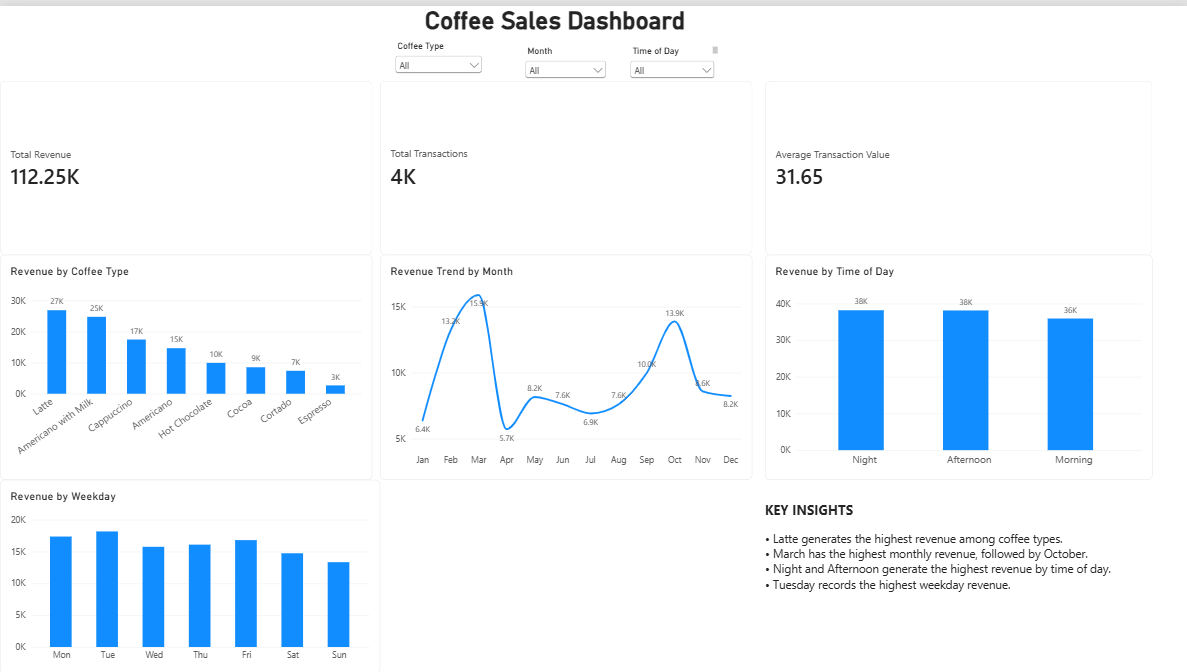

What the dashboard file says about the page in this screenshot:
{"tool":"powerbi","page":{"name":"Page 1","canvas":[1920,1080],"ordinal":0},"visuals":[{"type":"cardVisual","fields":{"Data":["CoffeeSales.Total Revenue"]},"box":[0,121,601.1,280.4],"z":0},{"type":"cardVisual","fields":{"Data":["CoffeeSales.Total Transactions"]},"box":[613.2,121,601.1,280.4],"z":1},{"type":"cardVisual","fields":{"Data":["CoffeeSales.Average Transaction Value"]},"box":[1234.5,121,625.3,280.4],"z":2},{"type":"clusteredColumnChart","title":"Revenue by Coffee Type","fields":{"Category":["CoffeeSales.coffee_name"],"Y":["Sum(CoffeeSales.money)"]},"box":[0,401.4,601.1,363.1],"z":3},{"type":"lineChart","title":"Revenue Trend by Month","fields":{"Category":["CoffeeSales.Month_name"],"Y":["CoffeeSales.Total Revenue"]},"box":[613.2,401.4,601.1,363.1],"z":4},{"type":"clusteredColumnChart","title":"Revenue by Time of Day","fields":{"Category":["CoffeeSales.Time_of_Day"],"Y":["Sum(CoffeeSales.money)"]},"box":[1234.5,401.4,625.3,363.1],"z":5},{"type":"clusteredColumnChart","title":"Revenue by Weekday","fields":{"Category":["CoffeeSales.Weekday"],"Y":["Sum(CoffeeSales.money)"]},"box":[0,764.5,613.2,314.7],"z":6},{"type":"textbox","box":[633,734,601,315],"z":7},{"type":"textbox","title":"Coffee Sales Dashboard","box":[633.4,0,524.5,76.7],"z":8},{"type":"slicer","fields":{"Values":["CoffeeSales.Month_name"]},"box":[843.2,64.6,139.2,56.5],"z":9},{"type":"slicer","fields":{"Values":["CoffeeSales.coffee_name"]},"box":[633.4,56.5,149.3,56.5],"z":10},{"type":"slicer","fields":{"Values":["CoffeeSales.Time_of_Day"]},"box":[1012.7,64.6,145.2,52.4],"z":11},{"type":"textbox","box":[1234.5,798.8,625.3,232],"z":12}]}

Visuals, with their boxes in screenshot pixels (x1, y1, x2, y2), scaled from the page's 1920x1080 canvas onto the 1187x672 screenshot:
cardVisual - CoffeeSales.Total Revenue: locate(0, 75, 372, 250)
cardVisual - CoffeeSales.Total Transactions: locate(379, 75, 751, 250)
cardVisual - CoffeeSales.Average Transaction Value: locate(763, 75, 1150, 250)
"Revenue by Coffee Type" clusteredColumnChart: locate(0, 250, 372, 476)
"Revenue Trend by Month" lineChart: locate(379, 250, 751, 476)
"Revenue by Time of Day" clusteredColumnChart: locate(763, 250, 1150, 476)
"Revenue by Weekday" clusteredColumnChart: locate(0, 476, 379, 671)
textbox: locate(391, 457, 763, 653)
"Coffee Sales Dashboard" textbox: locate(392, 0, 716, 48)
slicer - CoffeeSales.Month_name: locate(521, 40, 607, 75)
slicer - CoffeeSales.coffee_name: locate(392, 35, 484, 70)
slicer - CoffeeSales.Time_of_Day: locate(626, 40, 716, 73)
textbox: locate(763, 497, 1150, 641)
